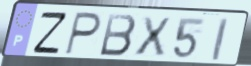5: (172, 16, 207, 60)
B: (98, 12, 139, 58)
I: (210, 17, 230, 63)
P: (62, 11, 103, 58)
X: (132, 15, 173, 57)
Z: (31, 10, 70, 55)
